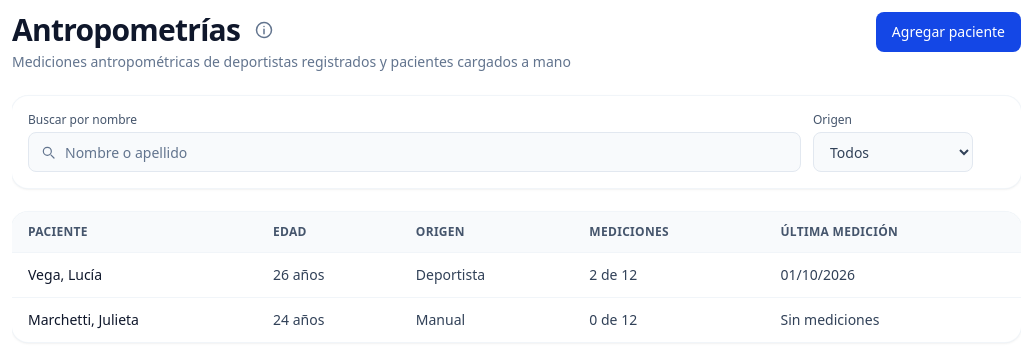
it: AntropometriasClient › filtra por origen y avisa cuando nadie coincide
Select "Manuales" in the dropdown labelled "Origen". click: [893, 152]
box: [813,132,973,172]
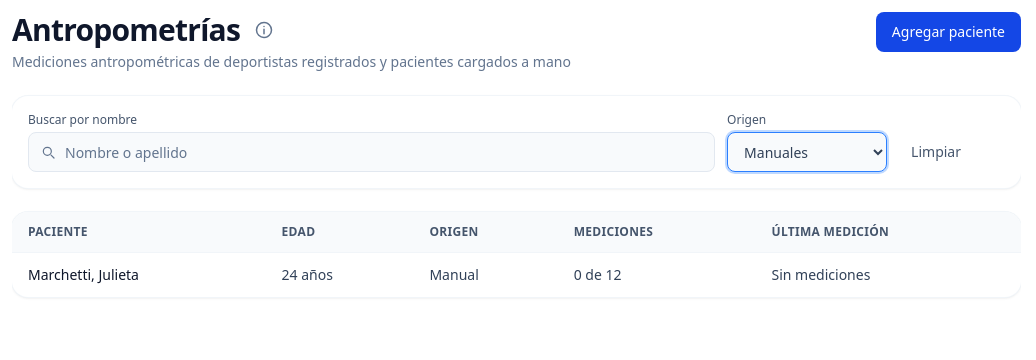
Check: the link "Marchetti, Julieta" is shown, box [28,265,139,284]
Check: the link "Vega, Lucía" is gone
Type "zzz" into the search field labelled "Buscar por nombre". click: [372, 152]
box: [28,132,715,172]
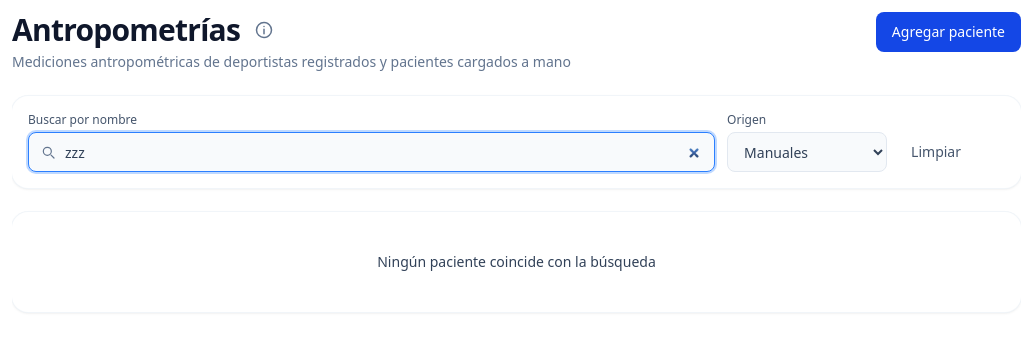
Check: the text "Ningún paciente coincide con la búsqueda" is shown, box [377,252,656,272]
